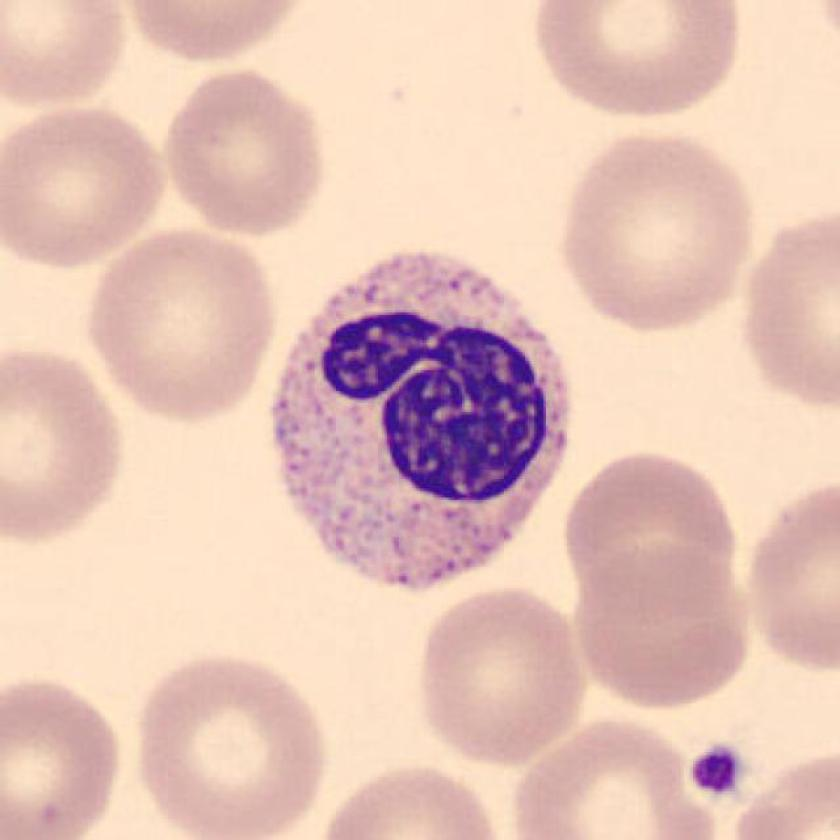neutrophil: (279, 252, 571, 590)
